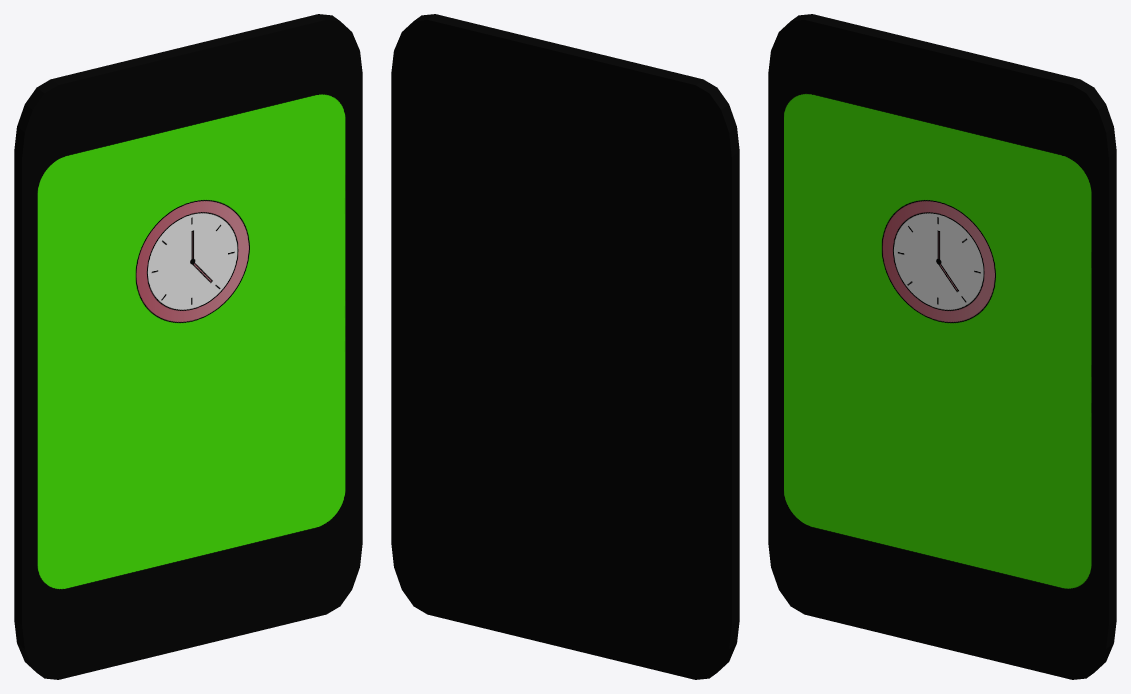
The model's file is cLOCK.fbx.
The picture shows the model from 3 angles, left to right: view 1: azimuth 30°, elevation 25°; view 2: azimuth 150°, elevation 25°; view 3: azimuth 330°, elevation 25°; orthographic projection.
Visible parts, largest first — view 1: Cube; view 2: Cube; view 3: Cube.
Part boxes in pixels (x1=…): Cube: x1=14, y1=14, x2=362, y2=679; Cube: x1=391, y1=14, x2=739, y2=679; Cube: x1=768, y1=14, x2=1116, y2=679.
Bounding box in the file's own units: 302 × 504 × 12.15.
2 materials, 1 textured.
